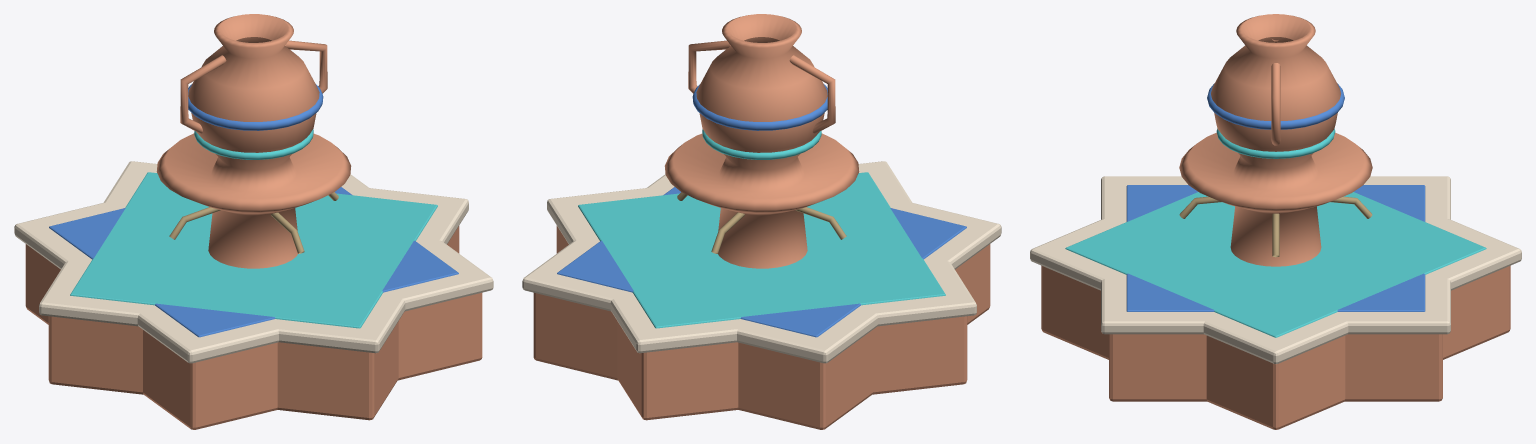
Rendered from fountain_spanish_courtyard.glb.
3 views of the same model, side by side, from view 1: azimuth 30°, elevation 25°; view 2: azimuth 150°, elevation 25°; view 3: azimuth 270°, elevation 25° (orthographic).
Visible parts, largest first — view 1: StarOuter_0; view 2: StarOuter_0; view 3: StarOuter_0.
Boxes of the visible parts, x1,y1,x2,y2 form: StarOuter_0: (14,14,493,429); StarOuter_0: (522,14,1001,429); StarOuter_0: (1030,14,1521,429).
Size of the model in its own units: 3.46 by 2.36 by 3.46.
